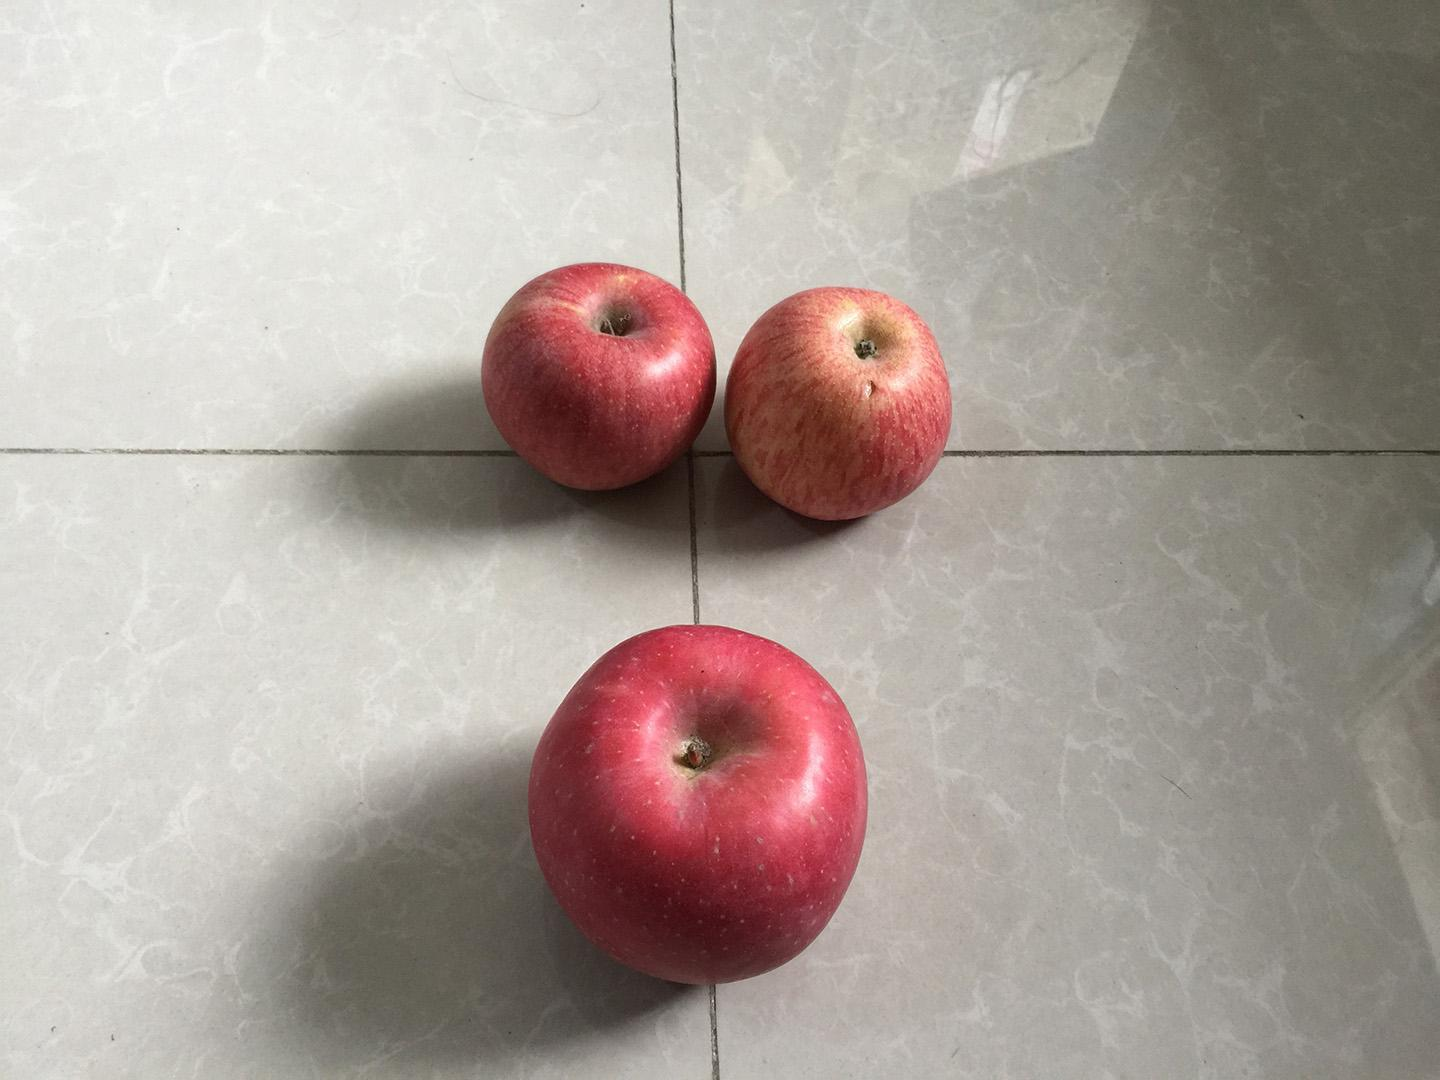apple: (517, 613, 879, 993), (474, 254, 725, 503), (718, 282, 958, 526)
